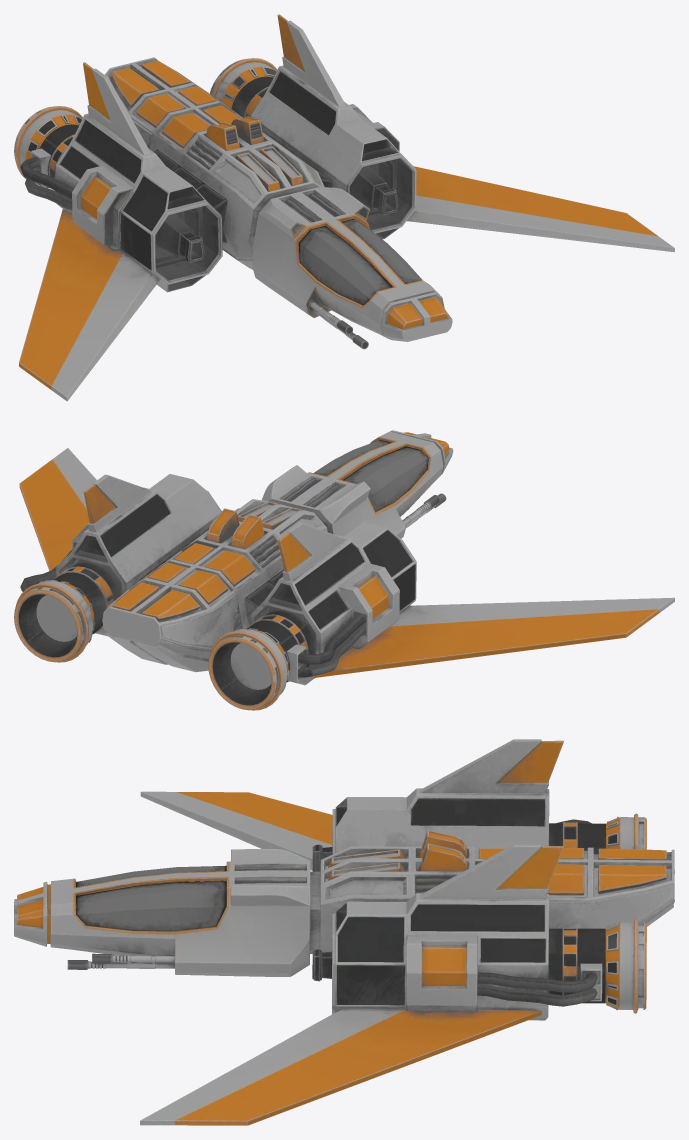
The model's file is ship_sunfire.glb.
3 renders of one model, top to bottom at view 1: azimuth 30°, elevation 25°; view 2: azimuth 150°, elevation 25°; view 3: azimuth 270°, elevation 25°, orthographic. The views are drawn at different scales.
Parts seen in each view (by area): view 1: Starship_Material.003_0; view 2: Starship_Material.003_0; view 3: Starship_Material.003_0.
Boxes of the visible parts, <box> form: Starship_Material.003_0: <box>14,14,674,401</box>; Starship_Material.003_0: <box>14,430,674,710</box>; Starship_Material.003_0: <box>14,739,674,1125</box>.
Bounding box in the file's own units: 25.92 × 6.51 × 21.89.
1 material, 1 textured.
